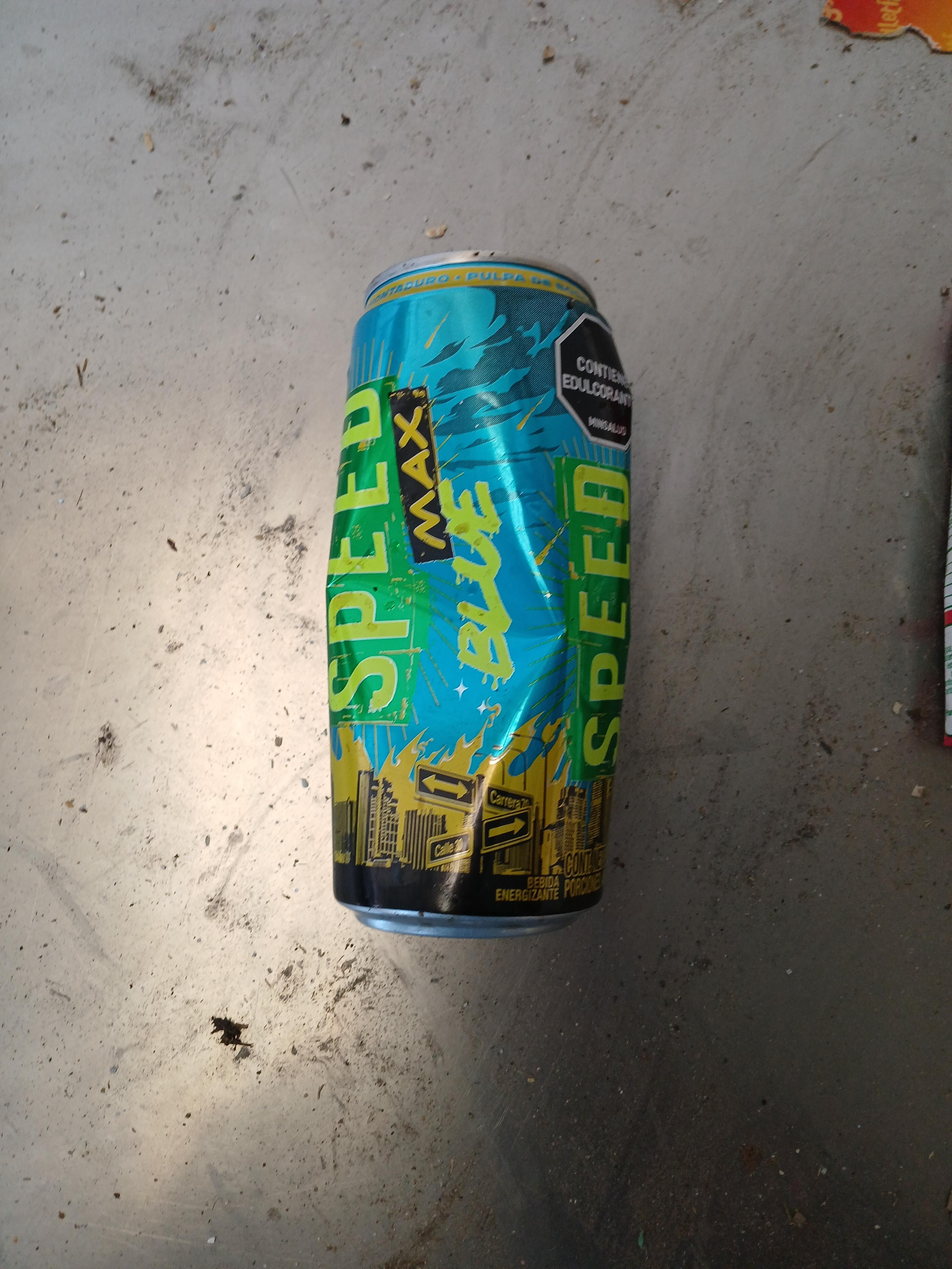Metal: (329, 248, 630, 940)
